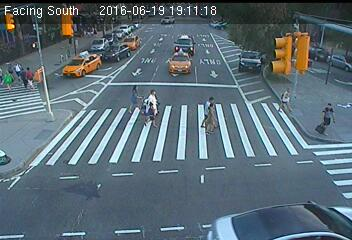neg: (145, 159, 169, 190), (56, 67, 79, 98), (216, 171, 238, 200), (303, 173, 325, 201), (203, 15, 224, 44), (37, 118, 57, 144), (57, 166, 77, 191), (319, 40, 338, 66), (179, 173, 196, 195), (252, 139, 268, 161), (284, 34, 300, 56), (27, 184, 43, 205), (157, 25, 172, 45), (88, 208, 103, 228), (206, 151, 220, 169), (125, 211, 138, 230), (267, 182, 280, 200), (77, 120, 90, 137), (158, 144, 171, 161), (92, 43, 105, 60), (20, 150, 33, 167), (135, 5, 148, 22), (113, 14, 126, 30), (251, 10, 263, 27), (242, 100, 254, 116), (107, 136, 118, 151), (244, 56, 255, 71), (58, 5, 69, 20), (31, 32, 42, 46), (17, 7, 27, 19), (109, 179, 118, 191), (174, 7, 181, 17)
pos: (312, 99, 340, 137), (141, 85, 168, 122), (195, 94, 222, 130), (276, 85, 298, 115), (124, 79, 144, 106), (22, 64, 39, 87), (1, 69, 17, 92)
